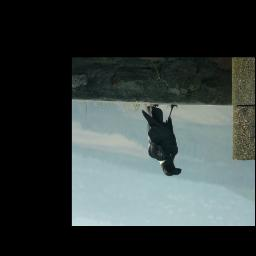Crow: (141, 104, 183, 177)
